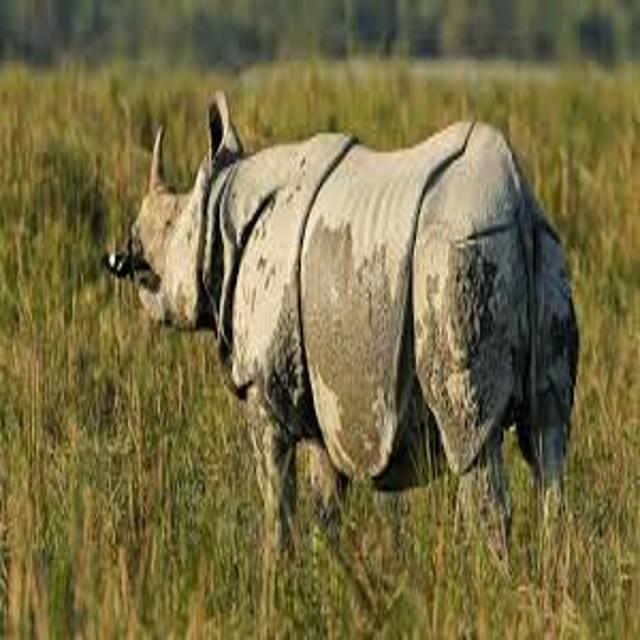Rinoceros: (94, 113, 603, 600)
